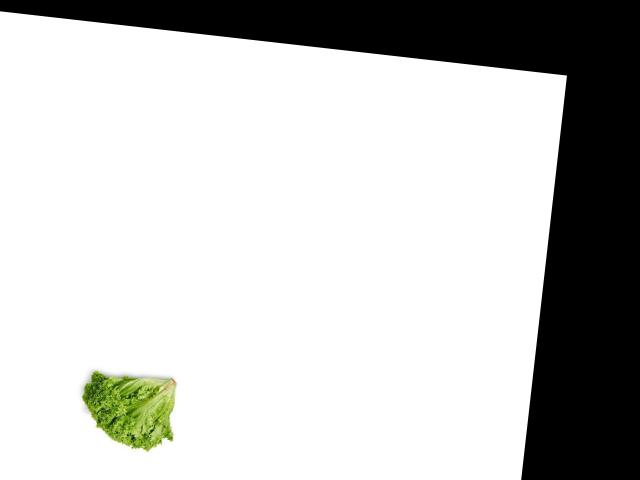lettuce: (71, 359, 184, 458)
